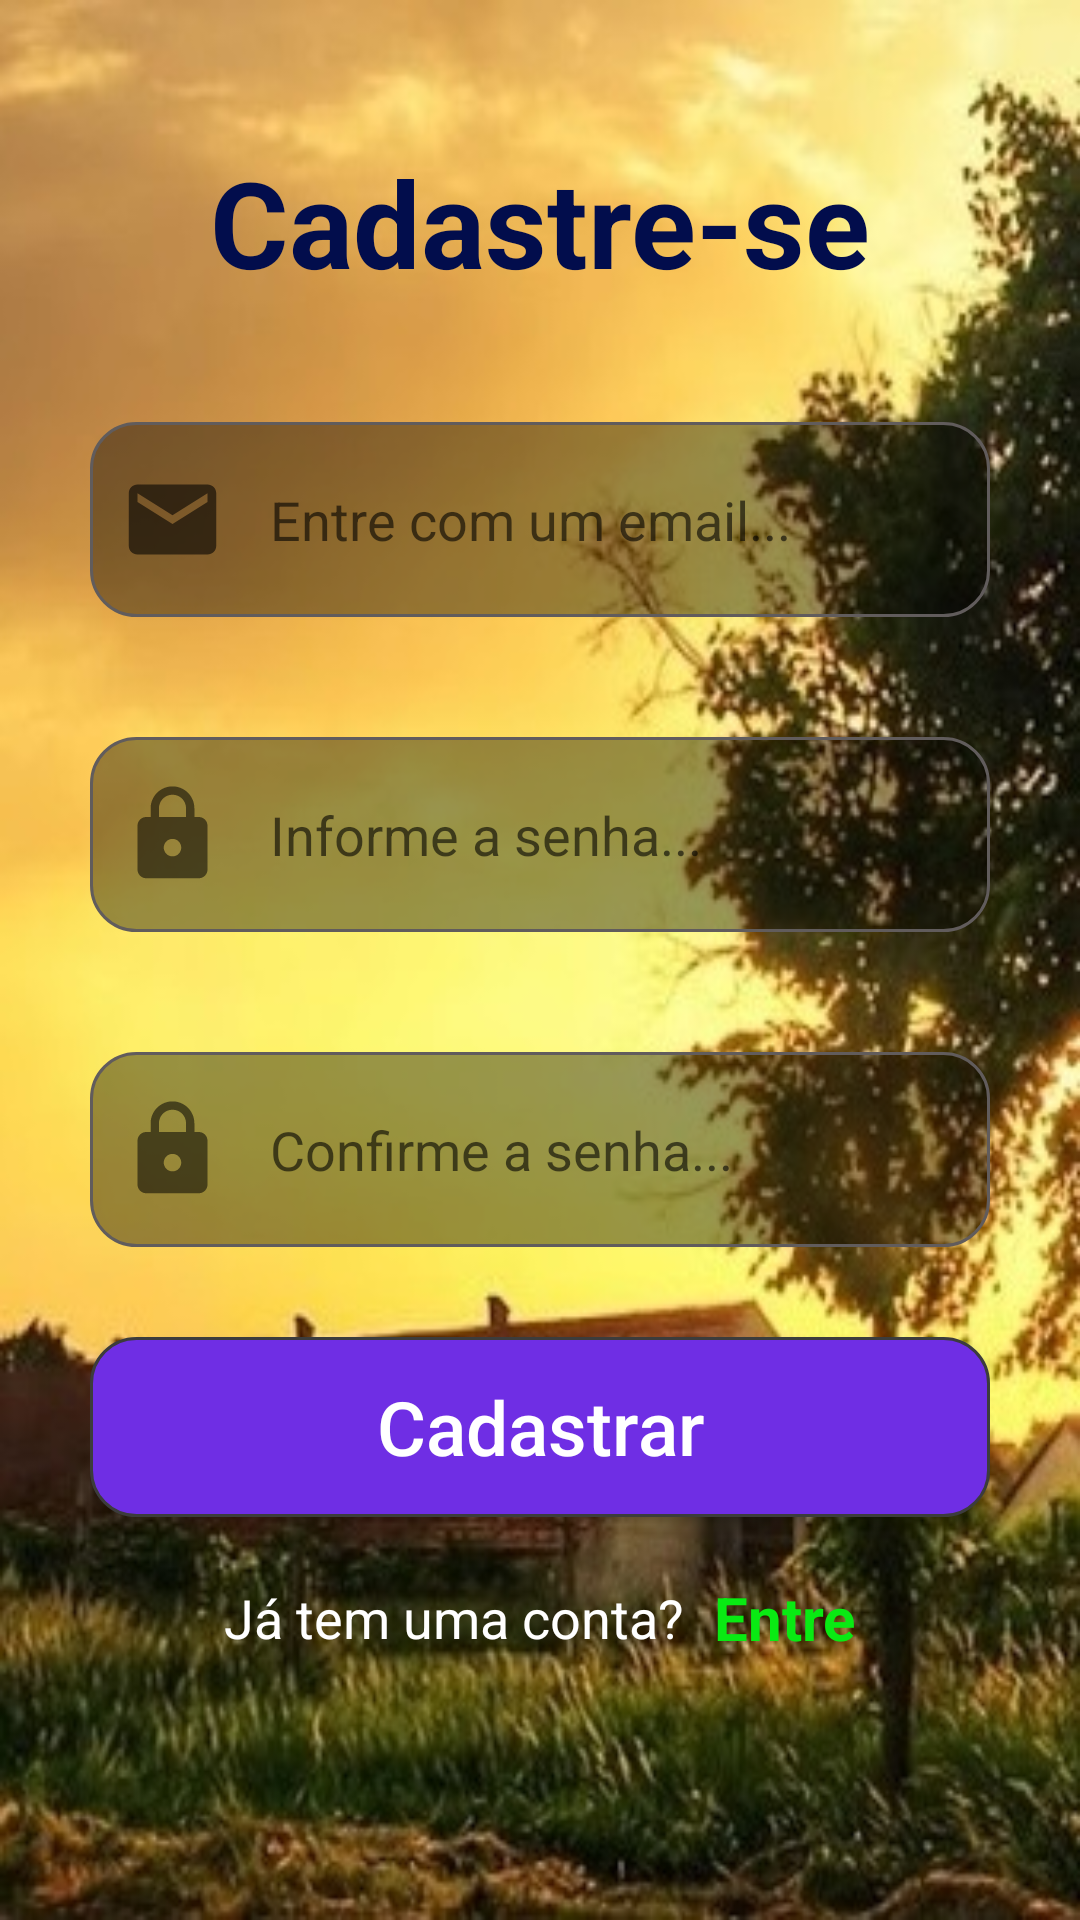

Icons on this 1080w x 1920h Android screen, each with its box as (x1, y1, x2, y2):
lock: (137, 786, 208, 878), (137, 1101, 208, 1194)
